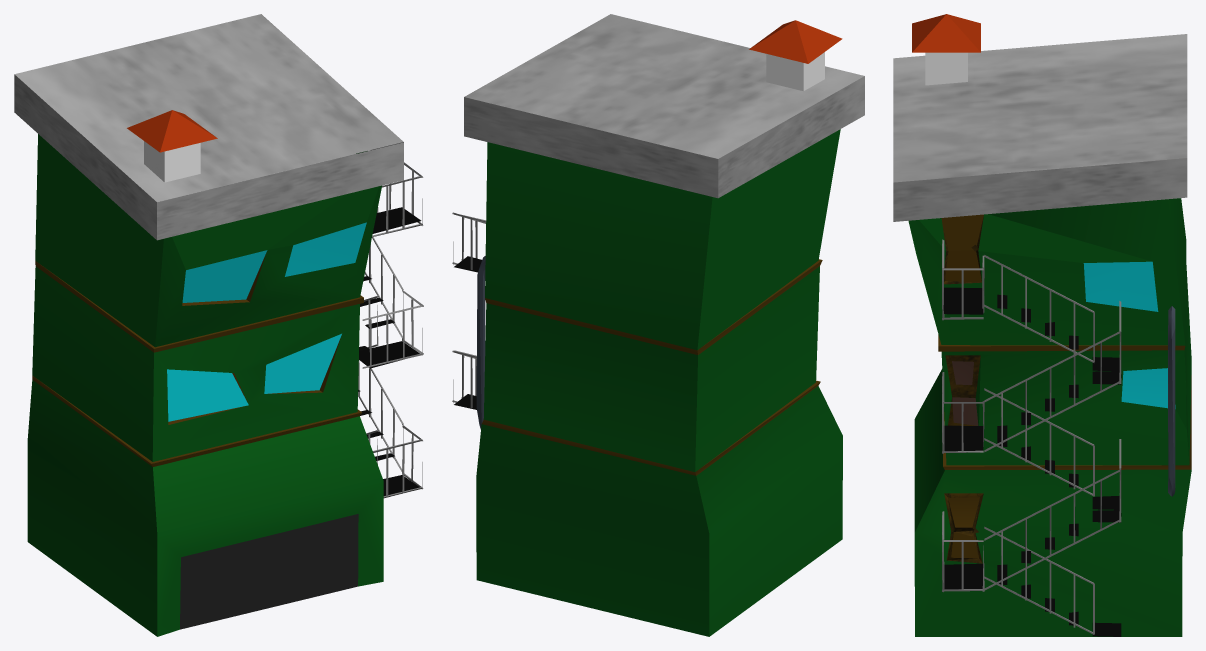
The model's file is PredioTorto-VerdeLOD1.fbx.
3 renders of one model, left to right at view 1: azimuth 30°, elevation 25°; view 2: azimuth 150°, elevation 25°; view 3: azimuth 270°, elevation 25°, orthographic. The views are drawn at different scales.
Visible parts, largest first — view 1: Predio3AndaresLOD1; view 2: Predio3AndaresLOD1; view 3: Predio3AndaresLOD1.
Part boxes in pixels (x1=…): Predio3AndaresLOD1: x1=14, y1=14, x2=423, y2=636; Predio3AndaresLOD1: x1=452, y1=14, x2=864, y2=636; Predio3AndaresLOD1: x1=893, y1=14, x2=1191, y2=636.
Bounding box in the file's own units: 1035 × 1727 × 892.
